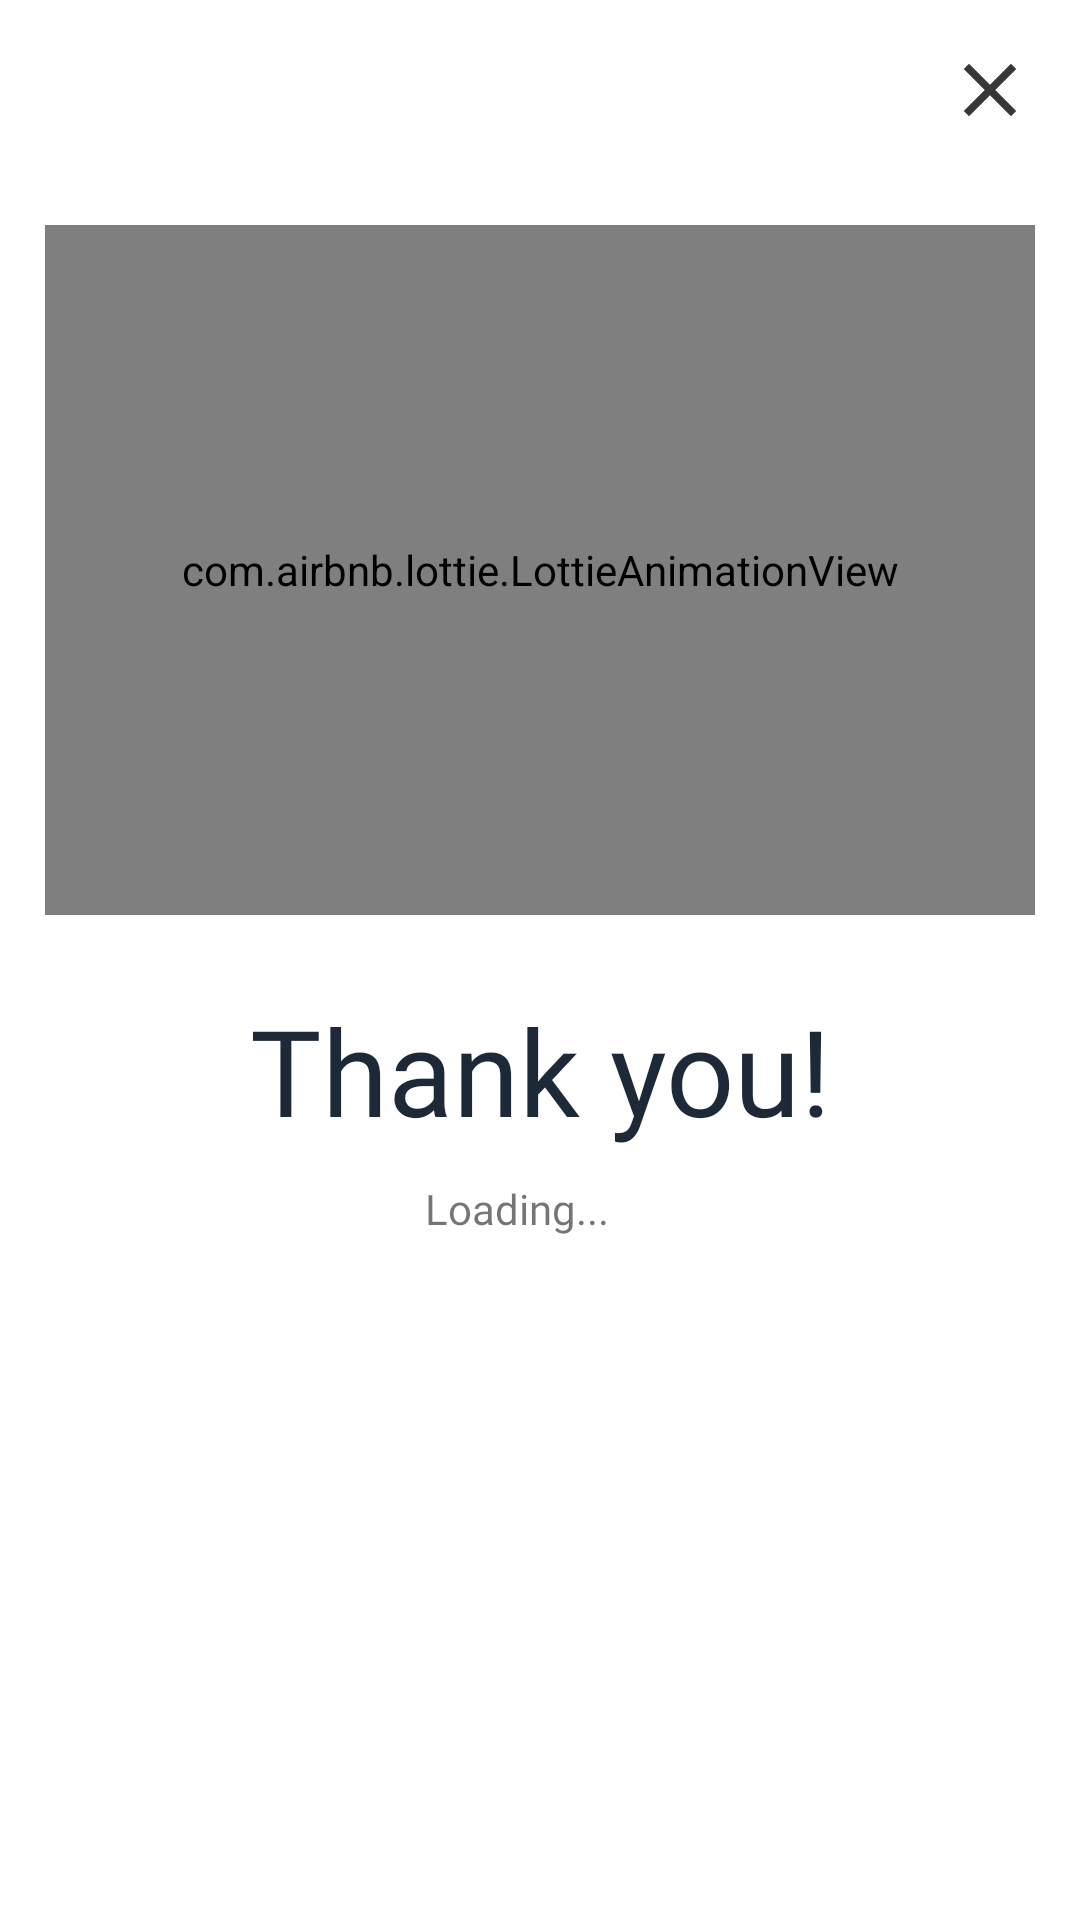

Point at icon controls on the screen. Image size 1080x1920, points as point (x, y).
close: point (990, 90)
